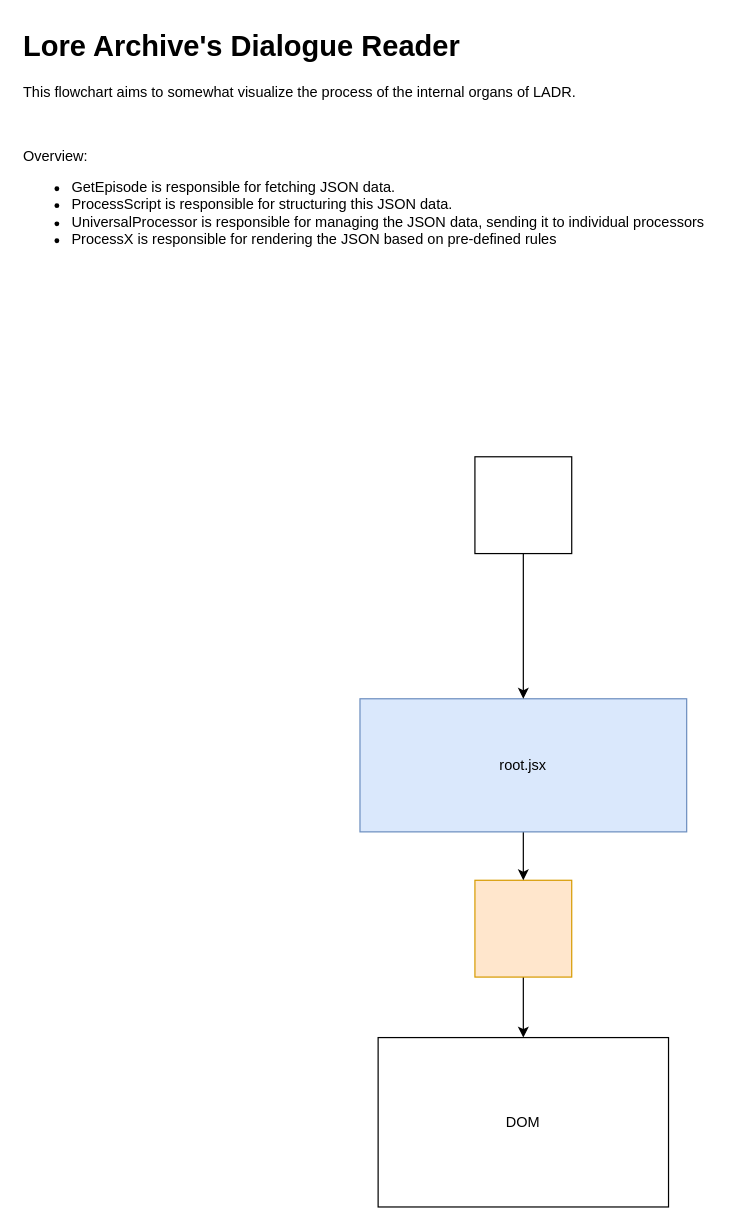
Image size: 755x1228. Some labels were removed from this diagram. The centre of each missing label's shape, as x and y in pixels:
"Home.jsx" goes at (x=523, y=505).
"index.html" goes at (x=523, y=928).
